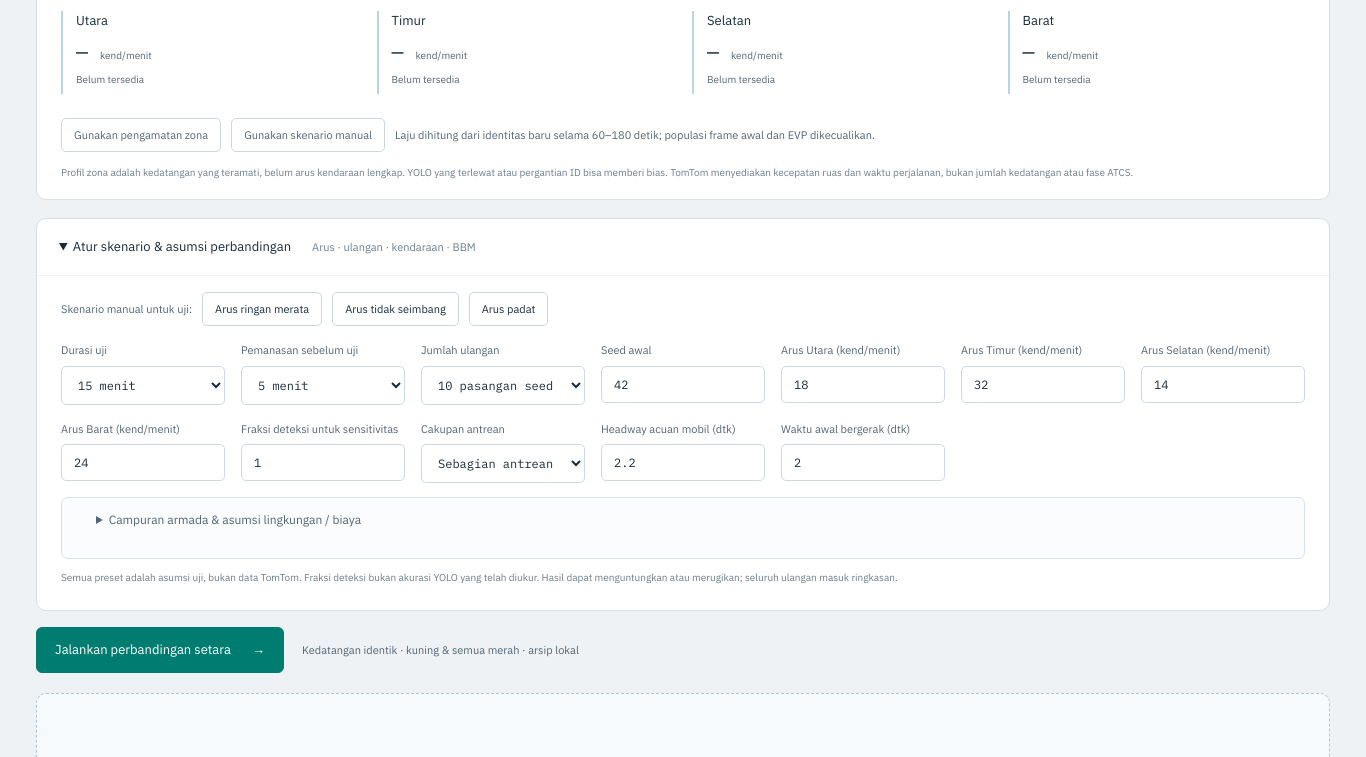
Test: rejects invalid scenario bounds before a request is sent
The image size is (1366, 757).
(page scrolled)
Step 1. Replace the text in the number field labelled "Arus Utara (kend/menit)" with "181" → [863, 384], box [781, 366, 945, 403]
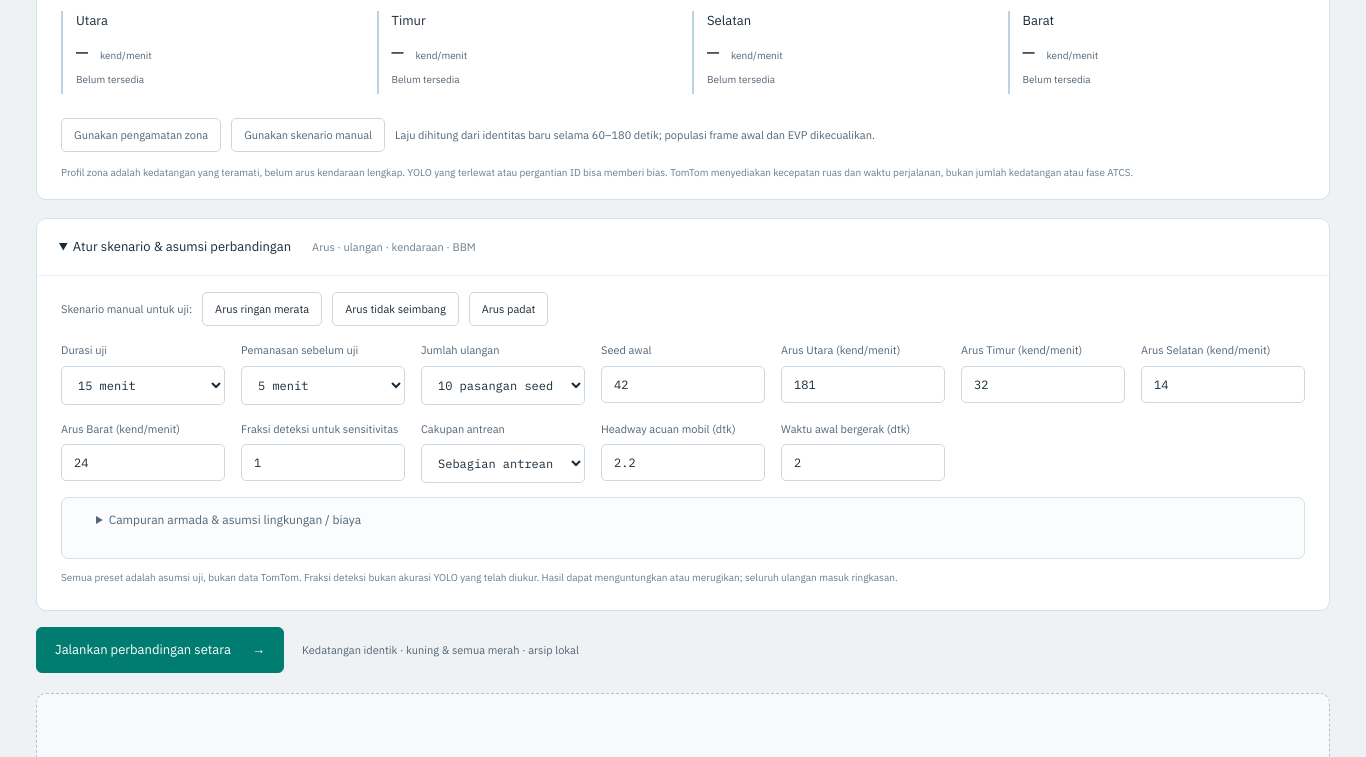
Step 2. Click the button "Jalankan perbandingan setara →" → [160, 650], box [36, 627, 284, 673]
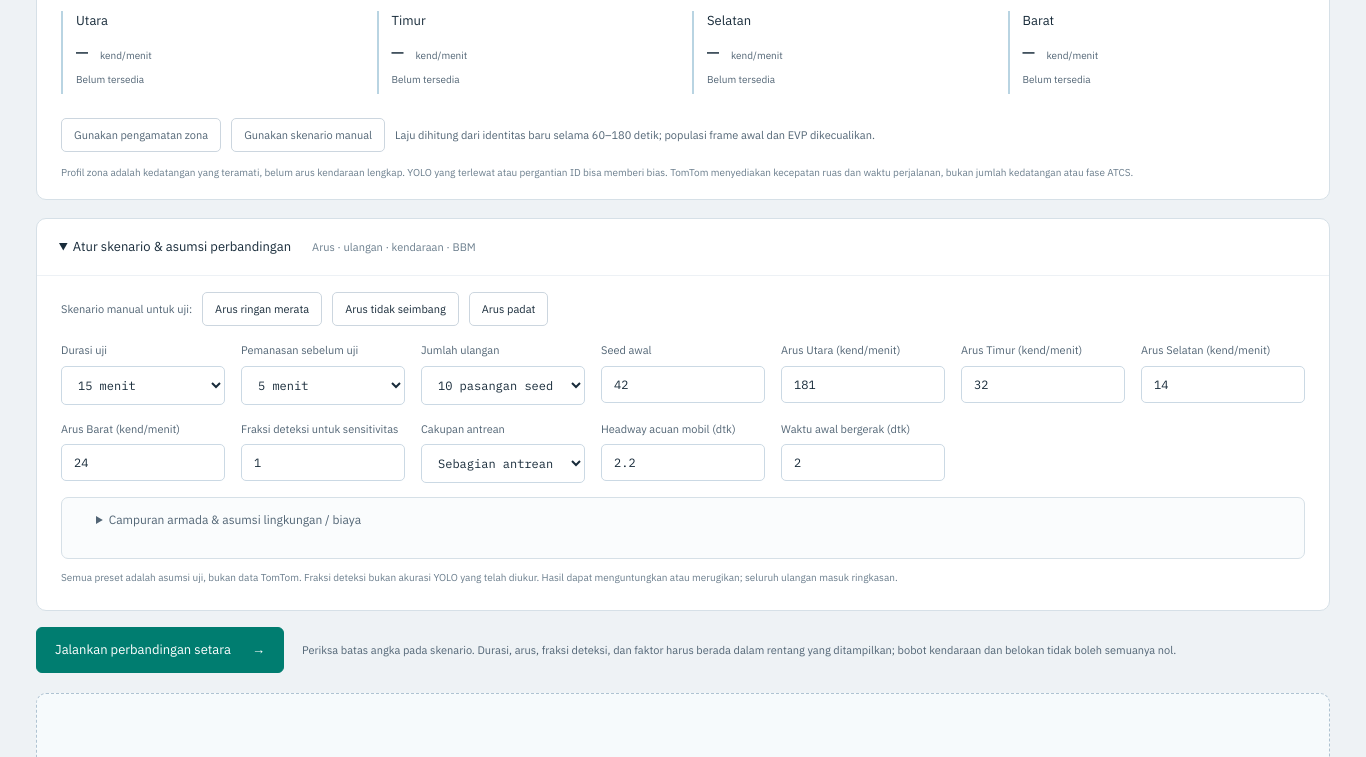
Expected: the text "Periksa batas angka pada skenario" is shown, [302, 643, 1176, 657]
